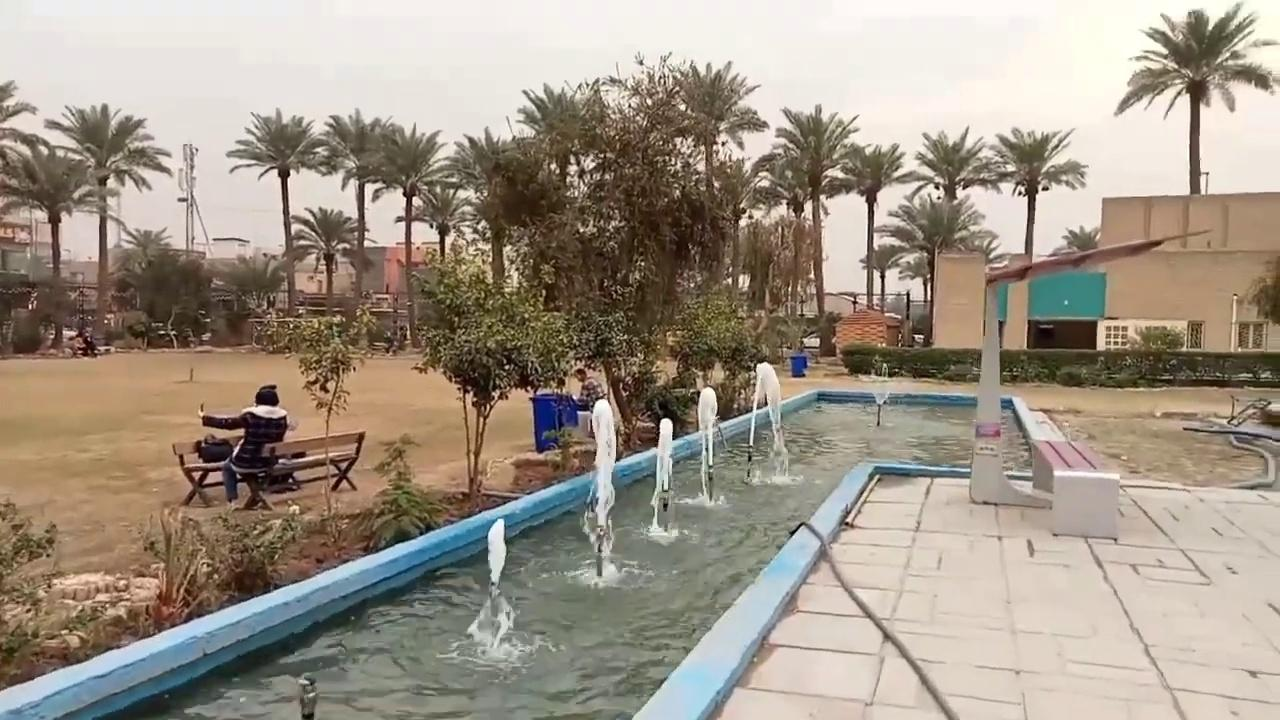fountain: (2, 366, 1120, 718), (579, 397, 620, 581), (742, 360, 801, 485), (464, 517, 518, 653), (675, 385, 729, 507), (643, 416, 679, 541), (868, 357, 893, 426)
person: (197, 385, 289, 509), (573, 367, 607, 410)
tree: (501, 51, 766, 448), (407, 252, 568, 510), (42, 101, 172, 343), (1113, 1, 1276, 194), (252, 310, 371, 514), (667, 58, 766, 296), (770, 102, 860, 355), (0, 132, 104, 350), (225, 106, 332, 315), (512, 79, 606, 311), (362, 121, 449, 348), (875, 192, 989, 342), (965, 125, 1088, 262), (443, 124, 540, 290), (318, 106, 394, 301), (831, 141, 911, 311), (393, 179, 475, 338), (109, 227, 213, 345), (668, 292, 760, 422), (709, 150, 774, 304), (514, 79, 601, 188), (288, 204, 370, 316), (0, 78, 39, 273), (901, 124, 988, 204), (395, 182, 473, 263), (111, 225, 173, 317), (217, 250, 292, 314), (858, 242, 905, 313), (1244, 254, 1279, 326), (121, 225, 171, 268), (0, 78, 37, 127), (1060, 224, 1100, 251)
